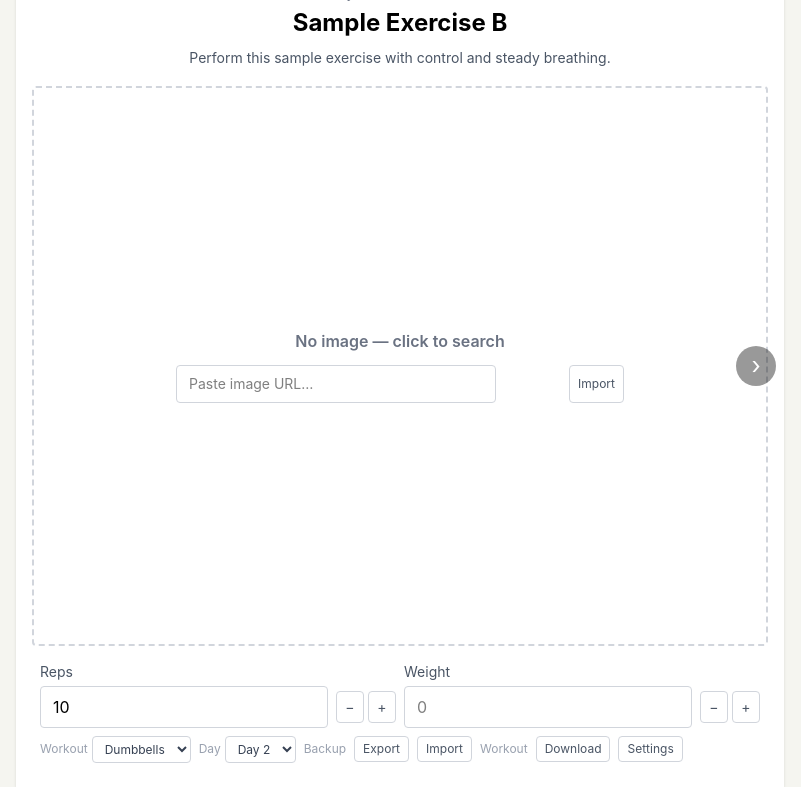
App › Settings › shows the odd/even workouts when that mode is selected
(page scrolled)
Click the button "Settings" at (651, 749), box [618, 736, 683, 762]
(page scrolled)
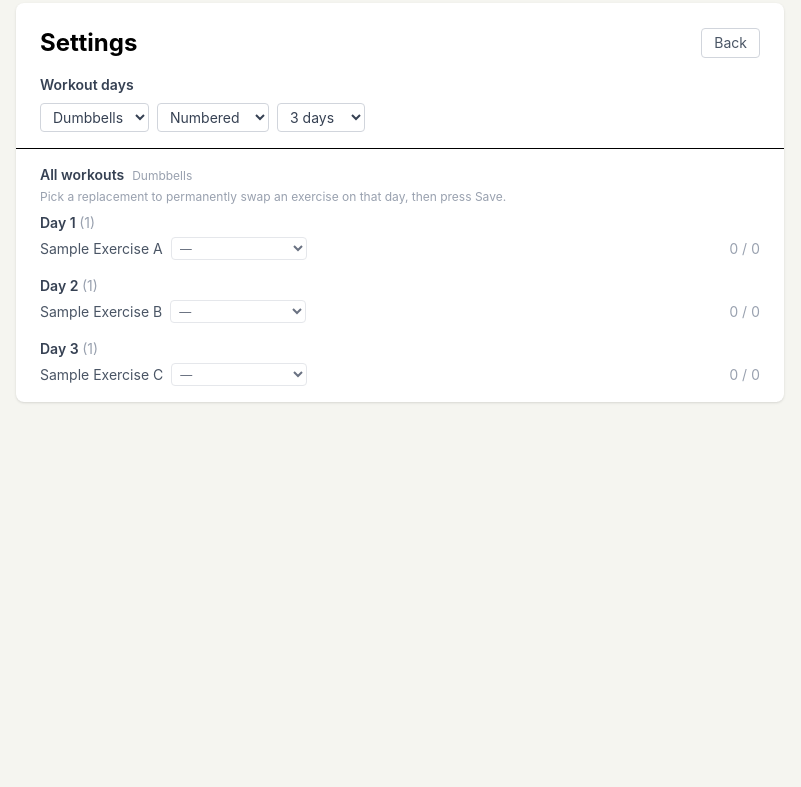
Check: the heading "All workouts" is shown, box [40, 165, 124, 185]
Select "Odd / Even" in the dropdown named "Day mode" at (213, 118), box [157, 103, 269, 132]
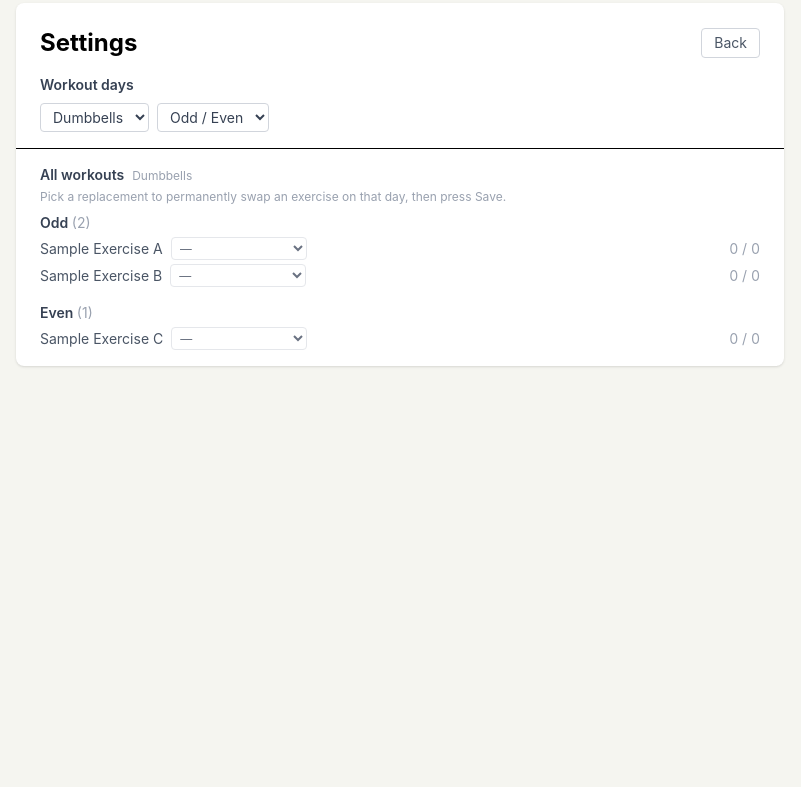
Check: the heading "Odd (2)" is shown, box [40, 214, 90, 231]
Check: the heading "Even (1)" is shown, box [40, 304, 93, 321]
Check: the heading "Day 1" is gone
